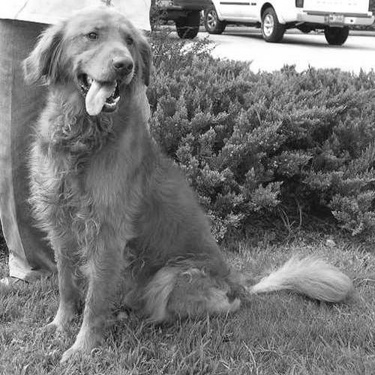dog: (11, 1, 355, 371)
